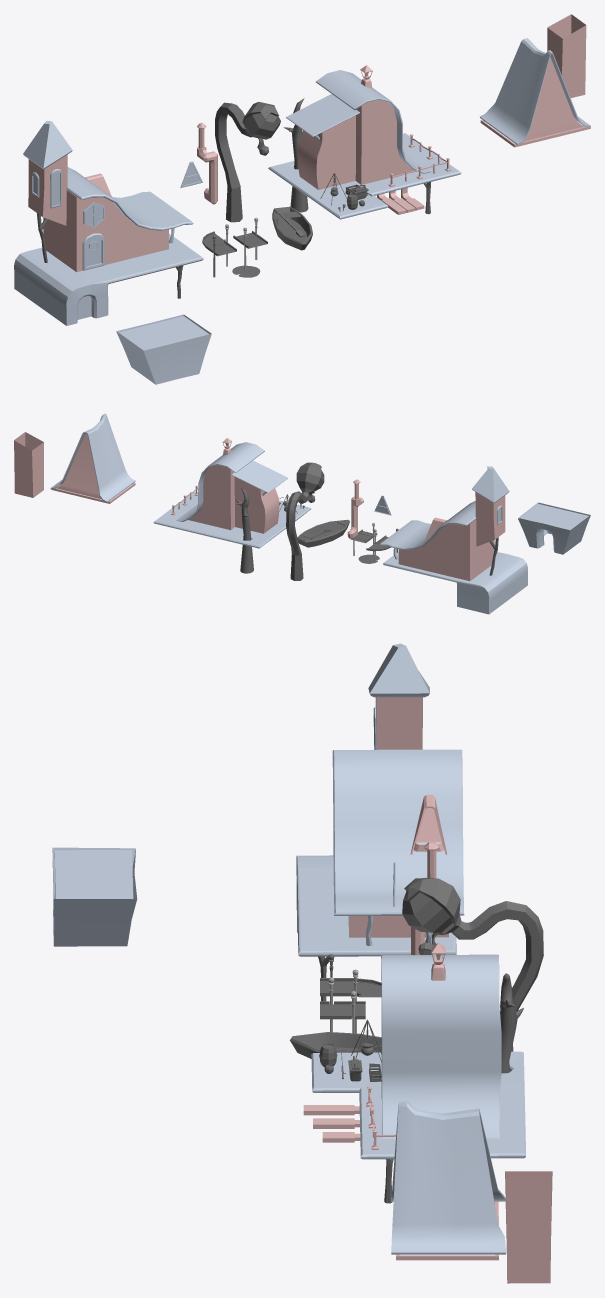
Rendered from Pueblo2_Pantano_UVs.fbx.
The picture shows the model from 3 angles, top to bottom: view 1: azimuth 30°, elevation 25°; view 2: azimuth 150°, elevation 25°; view 3: azimuth 270°, elevation 25°; orthographic projection. The views are drawn at different scales.
Parts seen in each view (by area): view 1: Base_w_UVs, Casa_E_UVs, Cuerpo_Casa_UVs, base_r1, Techo_R_UVs, plataforma_UVs, farola_UVs, Techo_w_UVs, Casa_R_UVs, Baño_UVs, Techo_E_UVs, Casa_Torre_UVs (+7 smaller); view 2: Casa_E_UVs, Cuerpo_Casa_UVs, Base_w_UVs, Techo_R_UVs, base_r1, plataforma_UVs, farola_UVs, Baño_UVs, Casa_R_UVs, Techo_w_UVs, Techo_E_UVs, Casa_Torre_UVs (+5 smaller); view 3: Techo_E_UVs, Techo_w_UVs, Techo_R_UVs, base_r1, plataforma_UVs, farola_UVs, Base_w_UVs, Baño_UVs, Casa_Torre_UVs, Techo_Torre_UVs, Bote_UVs, escaleras_UVs (+5 smaller).
Part boxes in pixels (box(x1,y1,x2,y2)): Base_w_UVs: box(14, 233, 203, 325); Casa_E_UVs: box(297, 99, 415, 189); Cuerpo_Casa_UVs: box(43, 190, 168, 272); base_r1: box(116, 314, 211, 384); Techo_R_UVs: box(479, 38, 590, 145); plataforma_UVs: box(268, 133, 461, 219); farola_UVs: box(215, 102, 280, 222); Techo_w_UVs: box(66, 167, 193, 243); Casa_R_UVs: box(480, 57, 590, 147); Baño_UVs: box(547, 14, 586, 97); Techo_E_UVs: box(316, 70, 431, 173); Casa_Torre_UVs: box(28, 154, 67, 225); Casa_E_UVs: box(188, 465, 279, 533); Cuerpo_Casa_UVs: box(398, 519, 494, 581); Base_w_UVs: box(383, 552, 527, 614); Techo_R_UVs: box(50, 413, 135, 502); base_r1: box(518, 502, 590, 554); plataforma_UVs: box(153, 491, 311, 548); farola_UVs: box(286, 462, 324, 580); Baño_UVs: box(14, 432, 43, 497); Casa_R_UVs: box(51, 433, 135, 503); Techo_w_UVs: box(380, 501, 476, 559); Techo_E_UVs: box(176, 442, 264, 521); Casa_Torre_UVs: box(475, 492, 505, 546); Techo_E_UVs: box(381, 954, 501, 1138); Techo_w_UVs: box(332, 749, 464, 945); Techo_R_UVs: box(391, 1101, 505, 1254); base_r1: box(52, 847, 137, 946); plataforma_UVs: box(311, 1051, 525, 1159); farola_UVs: box(402, 878, 543, 1071); Base_w_UVs: box(296, 855, 456, 956); Baño_UVs: box(505, 1171, 552, 1283); Casa_Torre_UVs: box(375, 697, 422, 749); Techo_Torre_UVs: box(368, 643, 429, 697); Bote_UVs: box(290, 1032, 381, 1058); escaleras_UVs: box(303, 1105, 360, 1142).
Size of the model in its own units: 68.02 by 20.22 by 32.57.
